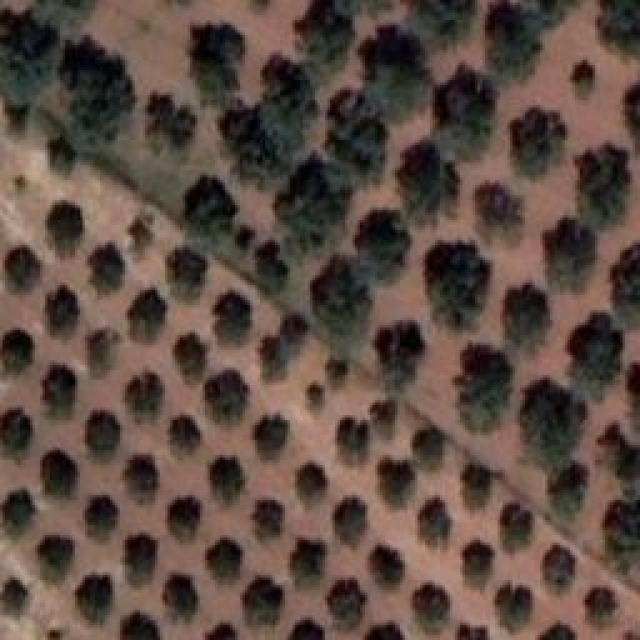Tree: (60, 35, 136, 152), (275, 153, 354, 251), (488, 0, 578, 81), (360, 25, 433, 121), (254, 53, 322, 156), (310, 255, 371, 360), (435, 65, 500, 160), (520, 378, 586, 471), (0, 8, 58, 111), (425, 243, 491, 330), (212, 96, 277, 184), (325, 90, 386, 180), (455, 342, 514, 432), (575, 143, 631, 229), (568, 314, 623, 398), (510, 108, 568, 180), (355, 210, 413, 279), (543, 218, 597, 290), (395, 140, 444, 218), (375, 320, 426, 392), (295, 0, 354, 62), (193, 23, 244, 90), (410, 0, 477, 51), (502, 282, 550, 352), (262, 315, 310, 382), (475, 183, 524, 246), (148, 93, 198, 149), (185, 176, 239, 226), (610, 243, 640, 329), (597, 422, 640, 480), (205, 370, 250, 425), (548, 463, 589, 521), (168, 247, 209, 302), (600, 0, 640, 56), (128, 290, 169, 343), (47, 200, 85, 257), (243, 577, 284, 627), (328, 578, 368, 629), (215, 290, 253, 343), (255, 240, 290, 296), (125, 374, 164, 424), (378, 458, 417, 508), (87, 243, 125, 294), (412, 583, 450, 634), (43, 365, 78, 420), (605, 500, 640, 555), (75, 575, 113, 625), (37, 0, 98, 30), (495, 583, 533, 631), (5, 245, 43, 292), (45, 285, 80, 336), (125, 535, 159, 587), (293, 538, 328, 587), (88, 327, 122, 377), (500, 502, 534, 552), (418, 498, 452, 548), (38, 535, 74, 582), (85, 410, 120, 458), (163, 575, 198, 623), (0, 407, 32, 459), (253, 415, 289, 461), (175, 332, 208, 382), (335, 497, 368, 547), (210, 458, 244, 506), (3, 490, 37, 538), (125, 455, 159, 503), (208, 537, 244, 582), (43, 450, 78, 496), (338, 418, 371, 466), (0, 330, 34, 376), (85, 495, 119, 541), (463, 540, 496, 587), (168, 497, 202, 542), (370, 545, 405, 588), (295, 462, 328, 507), (543, 545, 577, 587), (170, 415, 203, 457), (463, 464, 494, 508), (253, 500, 286, 541), (415, 428, 446, 471), (588, 587, 621, 627), (48, 135, 78, 176), (0, 577, 29, 617), (625, 83, 640, 156), (128, 213, 154, 255), (370, 400, 396, 441), (120, 615, 160, 640), (452, 620, 502, 640), (570, 60, 595, 98), (290, 620, 325, 640), (365, 623, 405, 640), (328, 358, 349, 388), (540, 623, 576, 640), (205, 623, 238, 640), (307, 383, 325, 411), (235, 225, 255, 250), (627, 362, 640, 395)
